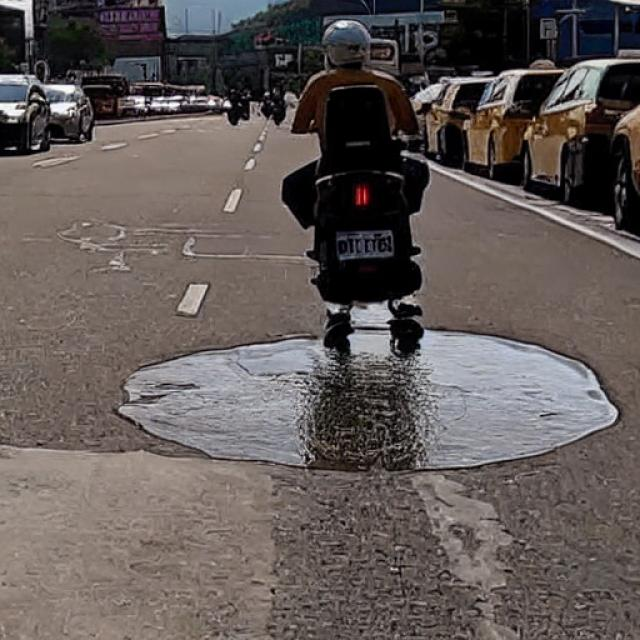puddle: (118, 332, 618, 472)
